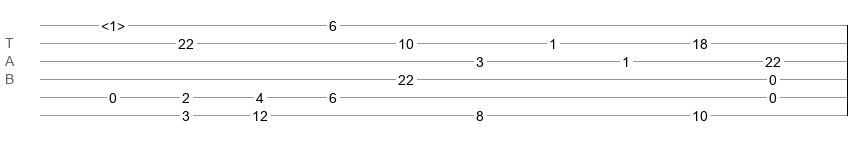0: (109, 90, 117, 100), (769, 90, 777, 100), (769, 72, 777, 82)
1: (549, 36, 557, 46), (622, 54, 630, 64)
10: (398, 36, 414, 46), (692, 108, 708, 118)
12: (252, 108, 268, 118)
18: (692, 36, 708, 46)
2: (182, 90, 190, 100)
22: (178, 36, 194, 46), (398, 72, 414, 82), (765, 54, 781, 64)
3: (182, 108, 190, 118), (476, 54, 484, 64)
4: (256, 90, 264, 100)
6: (329, 18, 337, 28), (329, 90, 337, 100)
8: (476, 108, 484, 118)
harmonic: (101, 18, 125, 28)
